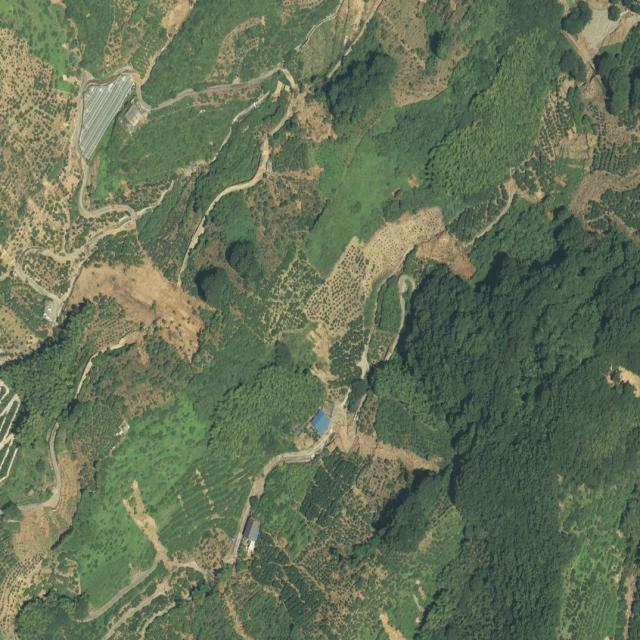landslide: (241, 212, 445, 523), (69, 255, 207, 365)
